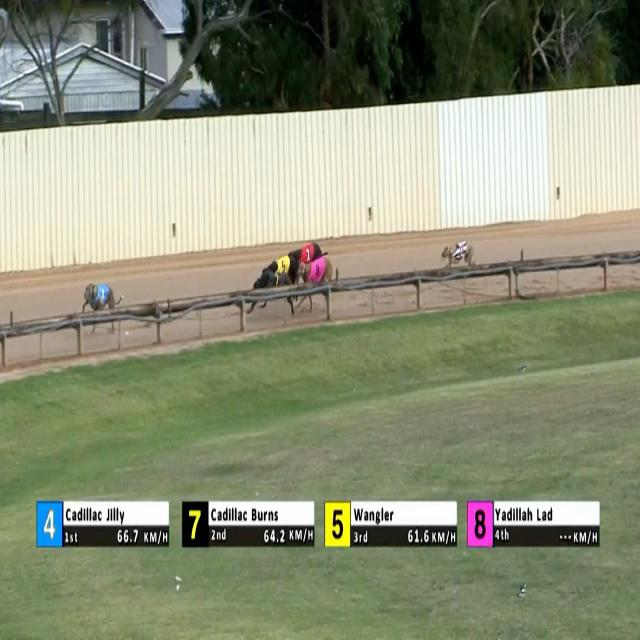dog_eight: (312, 260, 324, 282)
dog_five: (276, 255, 290, 277)
dog_four: (95, 283, 110, 310)
dog_one: (300, 244, 315, 265)
dog_seven: (270, 270, 285, 292)
dog_two: (453, 241, 469, 263)
rail: (1, 250, 640, 339)
